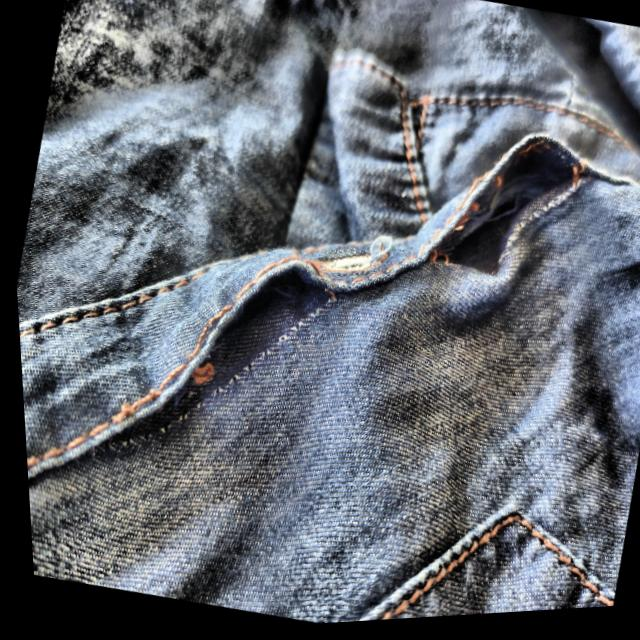seam: (42, 238, 339, 519), (394, 120, 612, 348)
